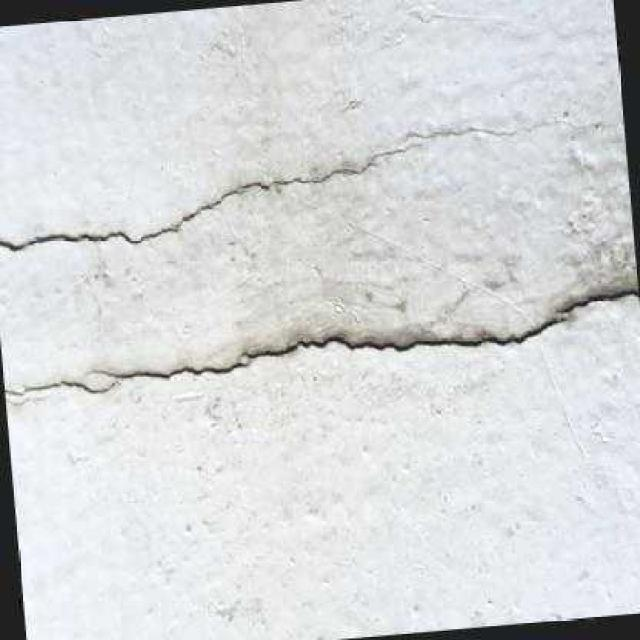D00: (5, 288, 639, 406), (0, 141, 419, 252)
